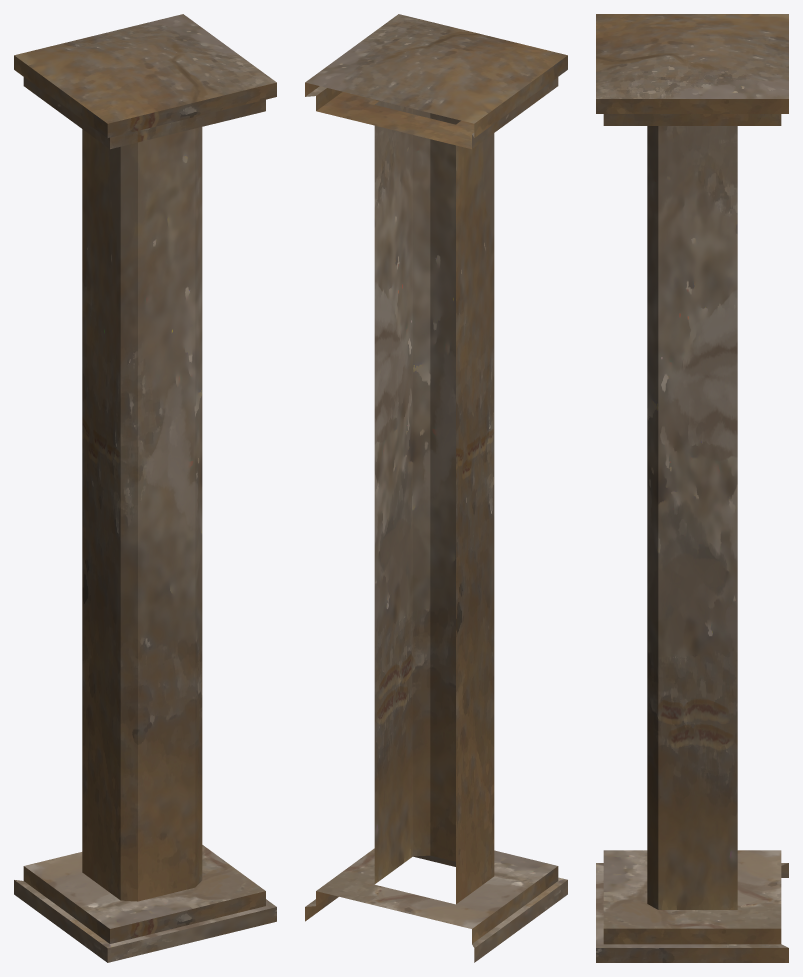
Rendered from Big_Pillier.FBX.
The picture shows the model from 3 angles, left to right: view 1: azimuth 30°, elevation 25°; view 2: azimuth 150°, elevation 25°; view 3: azimuth 270°, elevation 25°; orthographic projection. The views are drawn at different scales.
Visible parts, largest first — view 1: Pillier_Big; view 2: Pillier_Big; view 3: Pillier_Big.
Part boxes in pixels (box(x1,y1,x2,y2)): Pillier_Big: box(14, 14, 276, 962); Pillier_Big: box(305, 14, 567, 962); Pillier_Big: box(596, 14, 788, 962).
Bounding box in the file's own units: 121 × 581 × 116.
